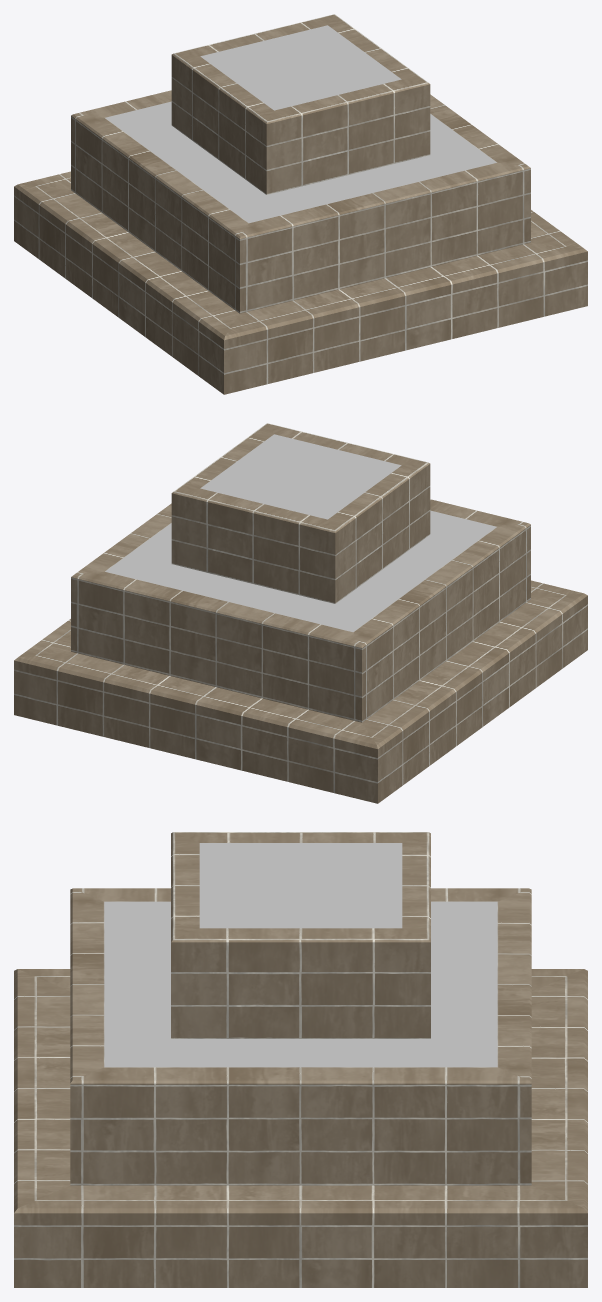
The model's file is PlatformStack2.fbx.
3 renders of one model, top to bottom at view 1: azimuth 30°, elevation 25°; view 2: azimuth 150°, elevation 25°; view 3: azimuth 270°, elevation 25°, orthographic. The views are drawn at different scales.
Parts seen in each view (by area): view 1: PlatformStack2; view 2: PlatformStack2; view 3: PlatformStack2.
Part boxes in pixels (x1=…): PlatformStack2: x1=14, y1=14, x2=587, y2=394; PlatformStack2: x1=14, y1=423, x2=587, y2=803; PlatformStack2: x1=14, y1=832, x2=587, y2=1287.
Bounding box in the file's own units: 500 × 270 × 500.
